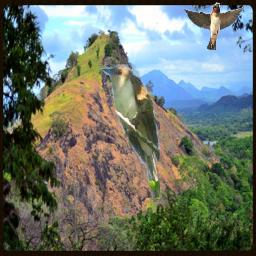Cuckoo: (97, 63, 163, 206)
Swallow: (182, 2, 246, 50)
